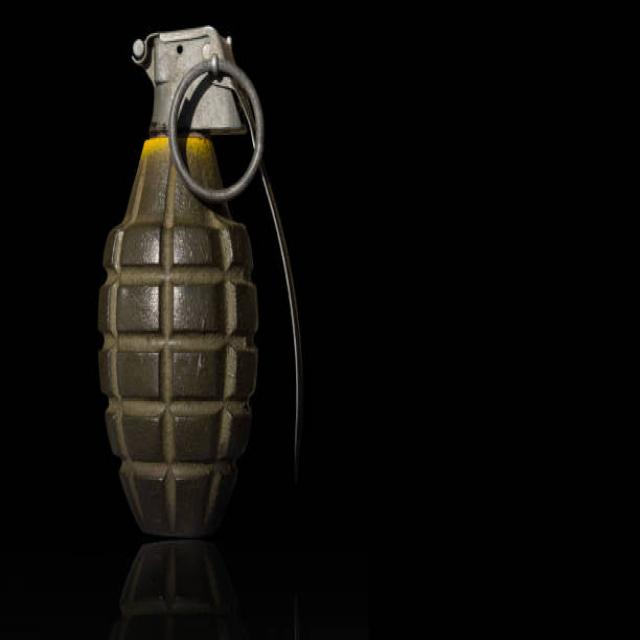grenade: (97, 24, 310, 554)
